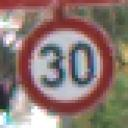speed_limit_30: (14, 14, 118, 120)
